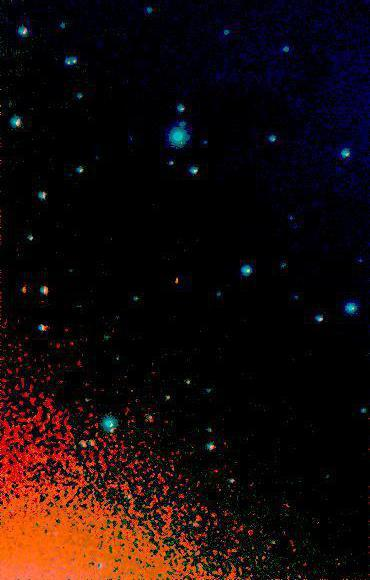star: (162, 264, 192, 294)
